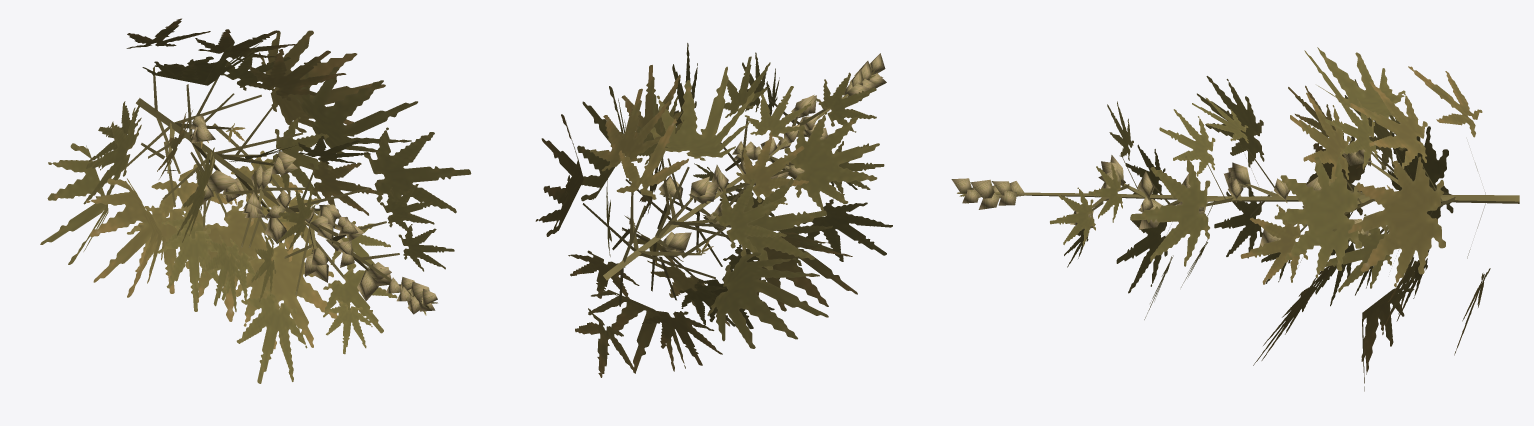
File: p_male_landrace_ripe_c2_cards.obj
3 views of the same model, side by side, from view 1: azimuth 30°, elevation 25°; view 2: azimuth 150°, elevation 25°; view 3: azimuth 270°, elevation 25° (orthographic). The views are drawn at different scales.
Bounding box in the file's own units: 1.72 × 1.52 × 2.28.
1 material, 1 textured.
